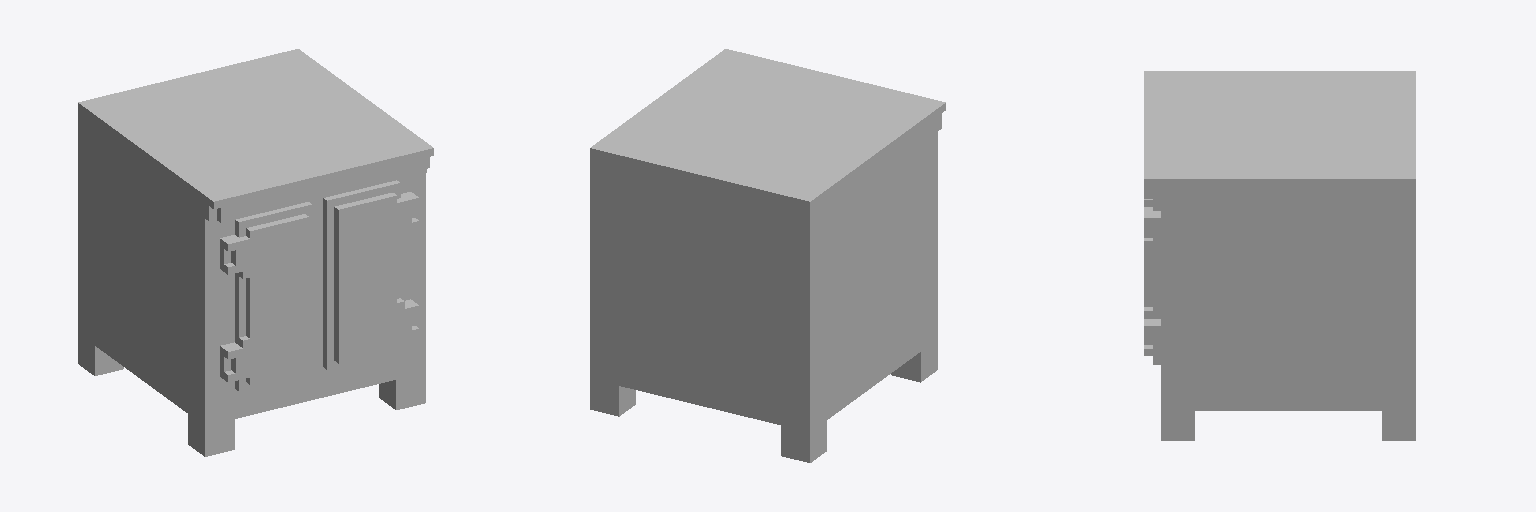
File: cupboard2.obj
3 views of the same model, side by side, from view 1: azimuth 30°, elevation 25°; view 2: azimuth 150°, elevation 25°; view 3: azimuth 270°, elevation 25° (orthographic).
Visible parts, largest first — view 1: cupboard2; view 2: cupboard2; view 3: cupboard2.
Part boxes in pixels (x1,y1,x2,y2): cupboard2: (78, 49, 433, 456); cupboard2: (590, 49, 945, 462); cupboard2: (1144, 71, 1415, 440).
Size of the model in its own units: 60 by 68 by 64.